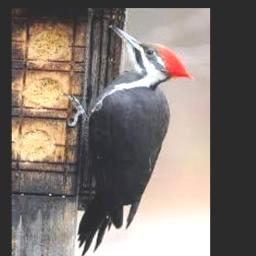Woodpecker: (66, 24, 194, 256)
